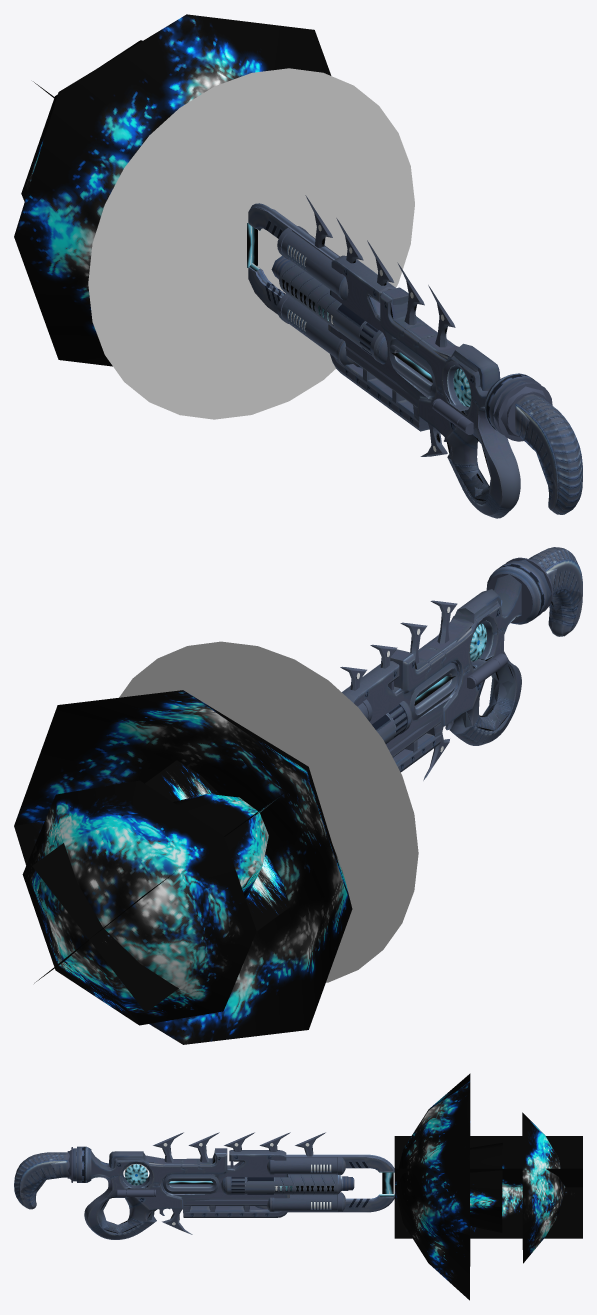
Rendered from Kraad_AutodeskFBX2011.fbx.
3 views of the same model, one above another, from view 1: azimuth 30°, elevation 25°; view 2: azimuth 150°, elevation 25°; view 3: azimuth 270°, elevation 25° (orthographic). The views are drawn at different scales.
Parts seen in each view (by area): view 1: Kraad_MuzzleControl, Kraad_MuzzleFlash3_LOD300, Kraad_LOD300, Kraad_LOD100, Kraad_LOD200; view 2: Kraad_MuzzleFlash3_LOD300, Kraad_MuzzleControl, Kraad_LOD300, Kraad_MuzzleFlash1_LOD300, Kraad_LOD100, Kraad_LOD200; view 3: Kraad_LOD300, Kraad_MuzzleFlash3_LOD300, Kraad_MuzzleFlash1_LOD300, Kraad_LOD100, Kraad_LOD200.
Boxes of the visible parts, x1,y1,x2,y2 form: Kraad_MuzzleControl: (88,68,414,419); Kraad_MuzzleFlash3_LOD300: (14,14,331,366); Kraad_LOD300: (247,195,582,518); Kraad_LOD100: (248,207,556,501); Kraad_LOD200: (250,208,518,513); Kraad_MuzzleFlash3_LOD300: (14,690,352,1044); Kraad_MuzzleControl: (119,641,418,982); Kraad_LOD300: (340,547,582,780); Kraad_MuzzleFlash1_LOD300: (32,761,287,1012); Kraad_LOD100: (349,559,582,778); Kraad_LOD200: (354,577,531,762); Kraad_LOD300: (14,1132,394,1239); Kraad_MuzzleFlash3_LOD300: (394,1073,565,1300); Kraad_MuzzleFlash1_LOD300: (394,1136,582,1238); Kraad_LOD100: (20,1138,393,1234); Kraad_LOD200: (21,1139,386,1238).
Size of what is drawn, in the model's own units: 25.42 by 25.43 by 62.71.
